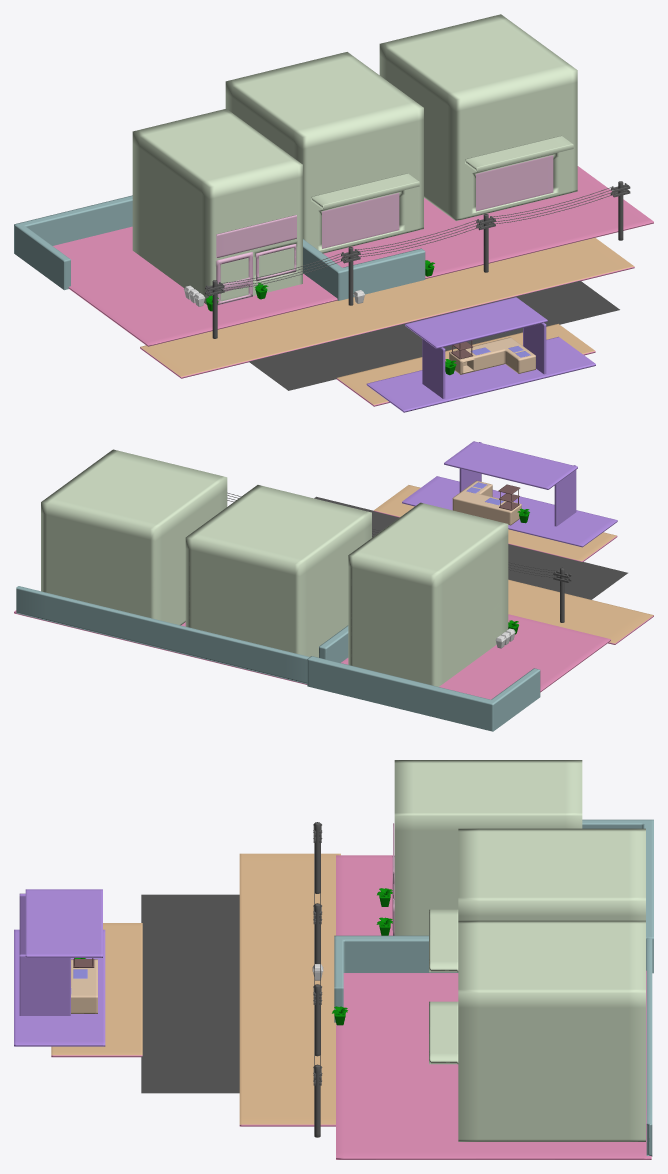
The picture shows the model from 3 angles, top to bottom: view 1: azimuth 30°, elevation 25°; view 2: azimuth 150°, elevation 25°; view 3: azimuth 270°, elevation 25°; orthographic projection. The views are drawn at different scales.
Parts seen in each view (by area): view 1: Building, Street_01, Shelter_01, Wall_01, Counter_001, Wire_01, Wire_02, Wire_03; view 2: Building, Street_01, Wall_01, Shelter_01, Counter_001; view 3: Building, Street_01, Shelter_01, Wall_01, Counter_001, Plant.
Boxes of the visible parts, x1=… form: Building: x1=132, y1=14, x2=577, y2=305; Street_01: x1=53, y1=166, x2=653, y2=406; Shelter_01: x1=366, y1=297, x2=595, y2=412; Wall_01: x1=14, y1=195, x2=425, y2=300; Counter_001: x1=449, y1=337, x2=535, y2=374; Wire_01: x1=221, y1=253, x2=344, y2=290; Wire_02: x1=357, y1=219, x2=479, y2=256; Wire_03: x1=492, y1=187, x2=614, y2=223; Building: x1=41, y1=449, x2=508, y2=686; Street_01: x1=14, y1=485, x2=653, y2=699; Wall_01: x1=16, y1=586, x2=540, y2=731; Shelter_01: x1=402, y1=441, x2=617, y2=547; Counter_001: x1=452, y1=480, x2=521, y2=525; Building: x1=392, y1=760, x2=645, y2=1141; Street_01: x1=51, y1=853, x2=651, y2=1159; Shelter_01: x1=14, y1=889, x2=105, y2=1046; Wall_01: x1=334, y1=819, x2=653, y2=1156; Counter_001: x1=71, y1=959, x2=97, y2=1013; Plant: x1=75, y1=888, x2=392, y2=1025.
Bounding box in the file's own units: 82.28 × 19.14 × 72.68.
